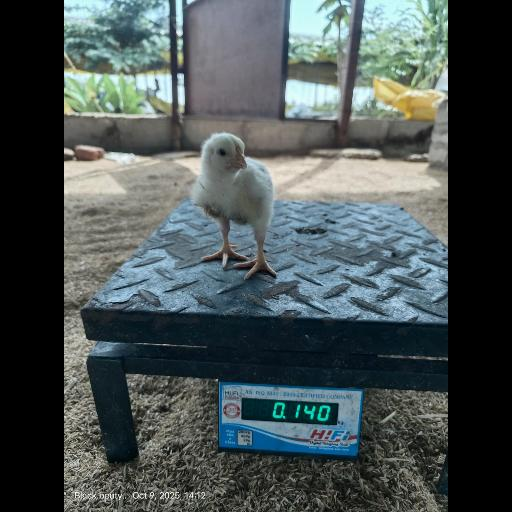chick: (189, 133, 279, 280)
